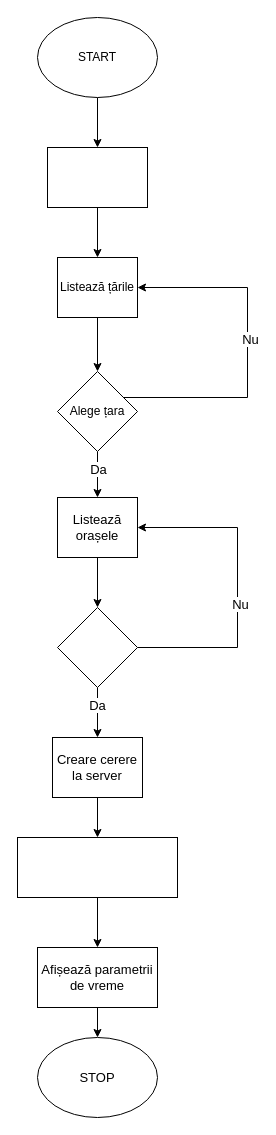
The diagram is 276 pixels wide and 1135 high, and some of its shapes have lost their labels. Each missing label, with the centre of its shape:
Alege un oraș: point (97, 647)
Citește fișierul de configurare: point (97, 177)
Primirea răspunsului în format JSON cu parametrii: point (97, 867)
